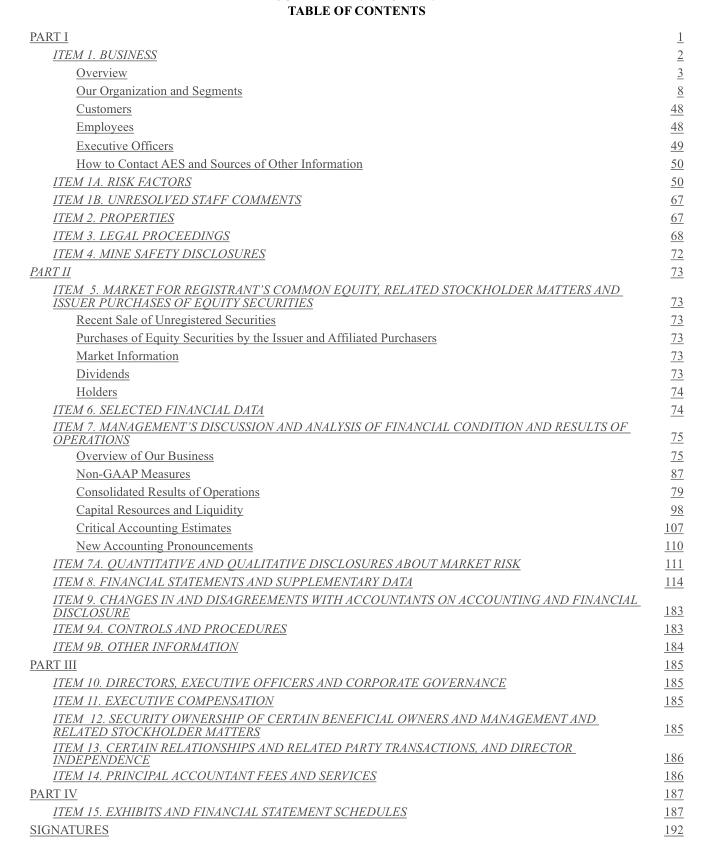table: (28, 28, 682, 836)
table column: (28, 28, 649, 836), (649, 28, 682, 836)
table row: (28, 279, 682, 310), (28, 589, 682, 619), (28, 708, 682, 738), (28, 417, 682, 446), (28, 738, 682, 766), (28, 98, 682, 117), (28, 381, 682, 400), (28, 44, 682, 62), (28, 62, 682, 80), (28, 80, 682, 98), (28, 117, 682, 135), (28, 135, 682, 153), (28, 153, 682, 171), (28, 171, 682, 189), (28, 189, 682, 207), (28, 207, 682, 225), (28, 225, 682, 243), (28, 243, 682, 261), (28, 261, 682, 279), (28, 327, 682, 345), (28, 345, 682, 363), (28, 363, 682, 381), (28, 463, 682, 481), (28, 481, 682, 499), (28, 499, 682, 517), (28, 517, 682, 535), (28, 535, 682, 553), (28, 553, 682, 571), (28, 571, 682, 589), (28, 636, 682, 654), (28, 654, 682, 672), (28, 672, 682, 690), (28, 690, 682, 708), (28, 783, 682, 801), (28, 801, 682, 819), (28, 310, 682, 327), (28, 400, 682, 417), (28, 446, 682, 463), (28, 619, 682, 636), (28, 766, 682, 783), (28, 819, 682, 836), (28, 28, 682, 44)
